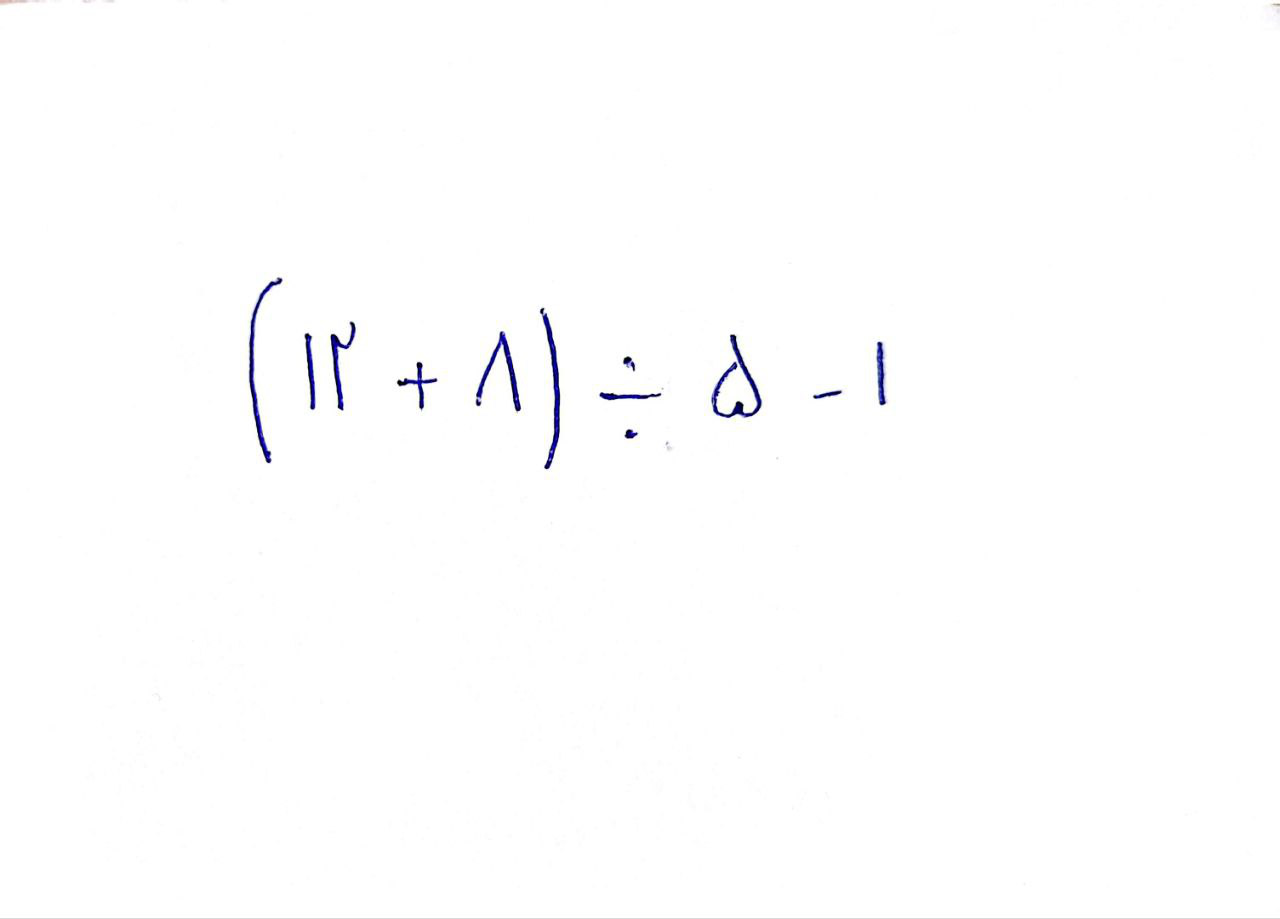character: (243, 274, 282, 467), (601, 354, 663, 444), (708, 335, 764, 423), (473, 331, 524, 413), (539, 307, 562, 470), (330, 320, 356, 413), (395, 361, 437, 410), (304, 331, 318, 411), (872, 341, 888, 410), (810, 385, 842, 405)
